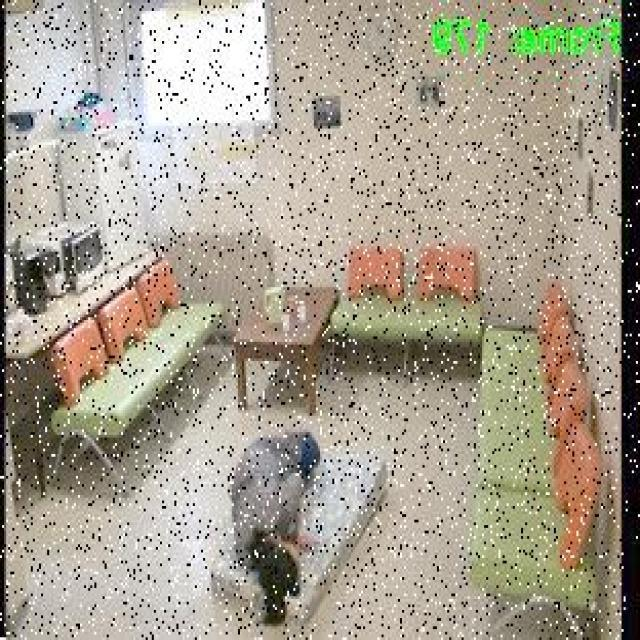fall: (226, 417, 338, 633)
